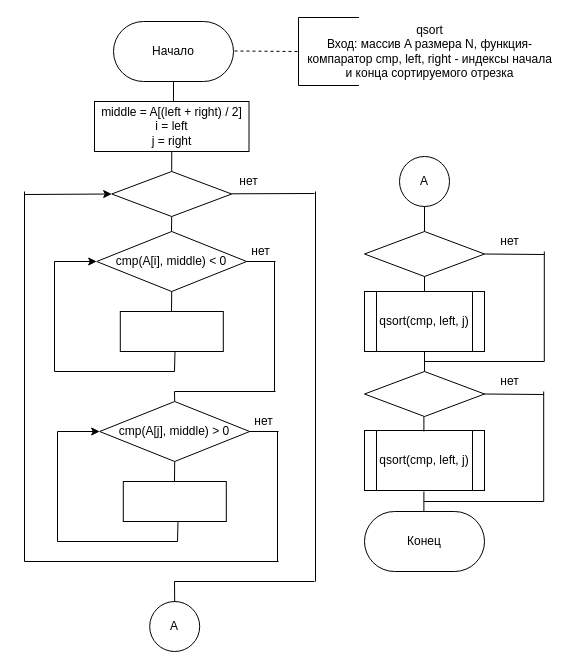
This 572x669 diagram has some shape labels left out. Here are the shapes that lost their labels. From the top down, the box of each, then its label:
(111, 170, 232, 216): i <= j
(364, 230, 484, 276): left < j
(119, 310, 223, 352): инкремент i
(364, 370, 484, 416): i < right
(122, 480, 226, 522): декремент j
